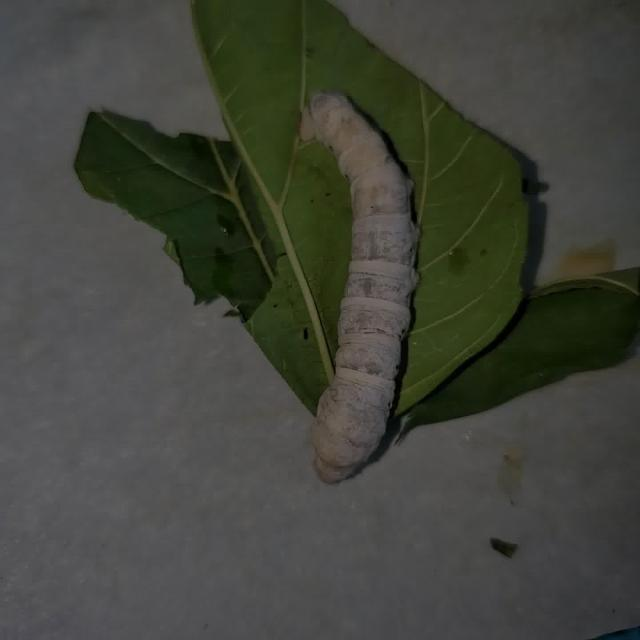Grasserie: (216, 58, 462, 540)
